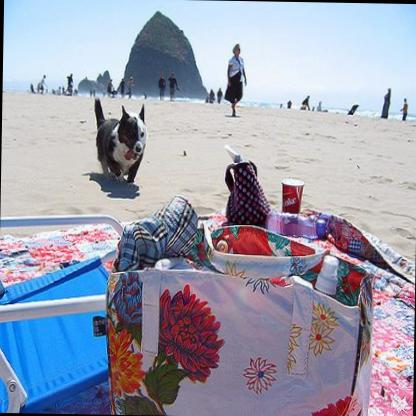Cardigan: (92, 95, 146, 188)
